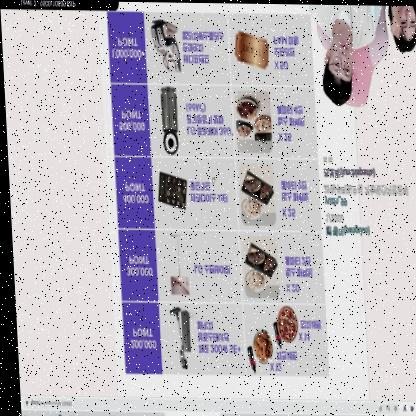streamer: (310, 4, 393, 107), (388, 5, 416, 55)
